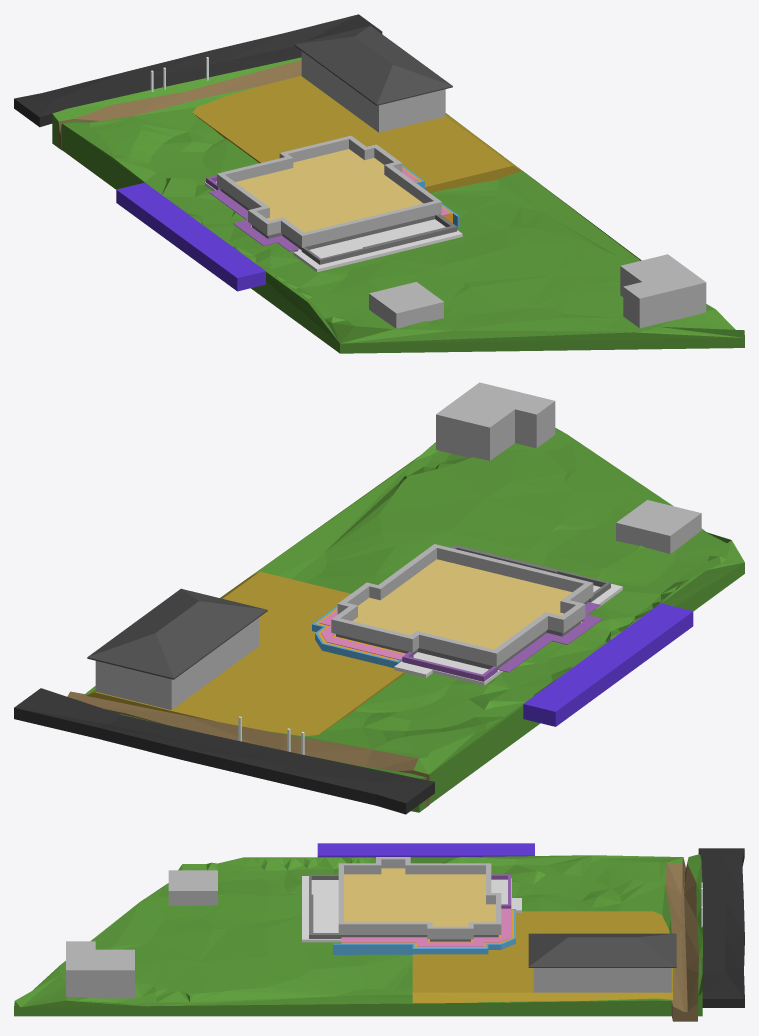
The model's file is bobrovoeGP.glb.
The picture shows the model from 3 angles, top to bottom: view 1: azimuth 30°, elevation 25°; view 2: azimuth 150°, elevation 25°; view 3: azimuth 270°, elevation 25°; orthographic projection. The views are drawn at different scales.
Visible parts, largest first — view 1: РљРѕРјРїРѕРЅР_РЅС__1.005, РљРѕРјРїРѕРЅР_РЅС__19.003, РљРѕРјРїРѕРЅР_РЅС__24.001, РљРѕРјРїРѕРЅР_РЅС__2.002, РљРѕРјРїРѕРЅР_РЅС__25.001, РљРѕРјРїРѕРЅР_РЅС__15.002, РљРѕРјРїРѕРЅР_РЅС__4.002, group_0.002, group_3, РљРѕРјРїРѕРЅР_РЅС__3.002, РљРѕРјРїРѕРЅР_РЅС__20.001, group_1 (+4 smaller); view 2: РљРѕРјРїРѕРЅР_РЅС__1.005, РљРѕРјРїРѕРЅР_РЅС__19.003, РљРѕРјРїРѕРЅР_РЅС__2.002, РљРѕРјРїРѕРЅР_РЅС__24.001, РљРѕРјРїРѕРЅР_РЅС__25.001, РљРѕРјРїРѕРЅР_РЅС__15.002, РљРѕРјРїРѕРЅР_РЅС__4.002, group_0.002, РљРѕРјРїРѕРЅР_РЅС__3.002, group_3, group_1, РљРѕРјРїРѕРЅР_РЅС__20.001 (+6 smaller); view 3: РљРѕРјРїРѕРЅР_РЅС__1.005, РљРѕРјРїРѕРЅР_РЅС__19.003, РљРѕРјРїРѕРЅР_РЅС__24.001, РљРѕРјРїРѕРЅР_РЅС__2.002, РљРѕРјРїРѕРЅР_РЅС__15.002, РљРѕРјРїРѕРЅР_РЅС__25.001, РљРѕРјРїРѕРЅР_РЅС__3.002, group_0.002, group_3, РљРѕРјРїРѕРЅР_РЅС__4.002, РљРѕРјРїРѕРЅР_РЅС__20.001, group_1 (+6 smaller).
Part boxes in pixels (x1,y1,x2,y2): РљРѕРјРїРѕРЅР_РЅС__1.005: (62,86,744,353); РљРѕРјРїРѕРЅР_РЅС__19.003: (192,75,521,192); РљРѕРјРїРѕРЅР_РЅС__24.001: (235,149,423,232); РљРѕРјРїРѕРЅР_РЅС__2.002: (14,14,382,127); РљРѕРјРїРѕРЅР_РЅС__25.001: (217,135,441,247); РљРѕРјРїРѕРЅР_РЅС__15.002: (294,25,452,105); РљРѕРјРїРѕРЅР_РЅС__4.002: (116,182,265,291); group_0.002: (620,254,706,328); group_3: (301,51,445,132); РљРѕРјРїРѕРЅР_РЅС__3.002: (58,60,301,150); РљРѕРјРїРѕРЅР_РЅС__20.001: (205,181,462,272); group_1: (369,282,443,328); РљРѕРјРїРѕРЅР_РЅС__1.005: (85,428,744,803); РљРѕРјРїРѕРЅР_РЅС__19.003: (86,571,405,736); РљРѕРјРїРѕРЅР_РЅС__2.002: (14,688,434,814); РљРѕРјРїРѕРЅР_РЅС__24.001: (352,559,571,649); РљРѕРјРїРѕРЅР_РЅС__25.001: (331,544,593,666); РљРѕРјРїРѕРЅР_РЅС__15.002: (87,588,267,679); РљРѕРјРїРѕРЅР_РЅС__4.002: (523,603,693,726); group_0.002: (436,382,555,460); РљРѕРјРїРѕРЅР_РЅС__3.002: (67,691,429,807); group_3: (95,618,258,709); group_1: (616,500,701,553); РљРѕРјРїРѕРЅР_РЅС__20.001: (394,583,622,685); РљРѕРјРїРѕРЅР_РЅС__1.005: (14,855,683,1016); РљРѕРјРїРѕРЅР_РЅС__19.003: (411,911,672,1003); РљРѕРјРїРѕРЅР_РЅС__24.001: (344,868,495,926); РљРѕРјРїРѕРЅР_РЅС__2.002: (698,848,744,1007); РљРѕРјРїРѕРЅР_РЅС__15.002: (528,933,676,967); РљРѕРјРїРѕРЅР_РЅС__25.001: (338,857,501,939); РљРѕРјРїРѕРЅР_РЅС__3.002: (665,857,698,1021); group_0.002: (66,941,134,998); group_3: (533,968,671,992); РљРѕРјРїРѕРЅР_РЅС__4.002: (317,843,534,857); РљРѕРјРїРѕРЅР_РЅС__20.001: (302,876,521,942); group_1: (168,870,217,905).
Bounding box in the file's own units: 37.72 × 6.75 × 74.07.
